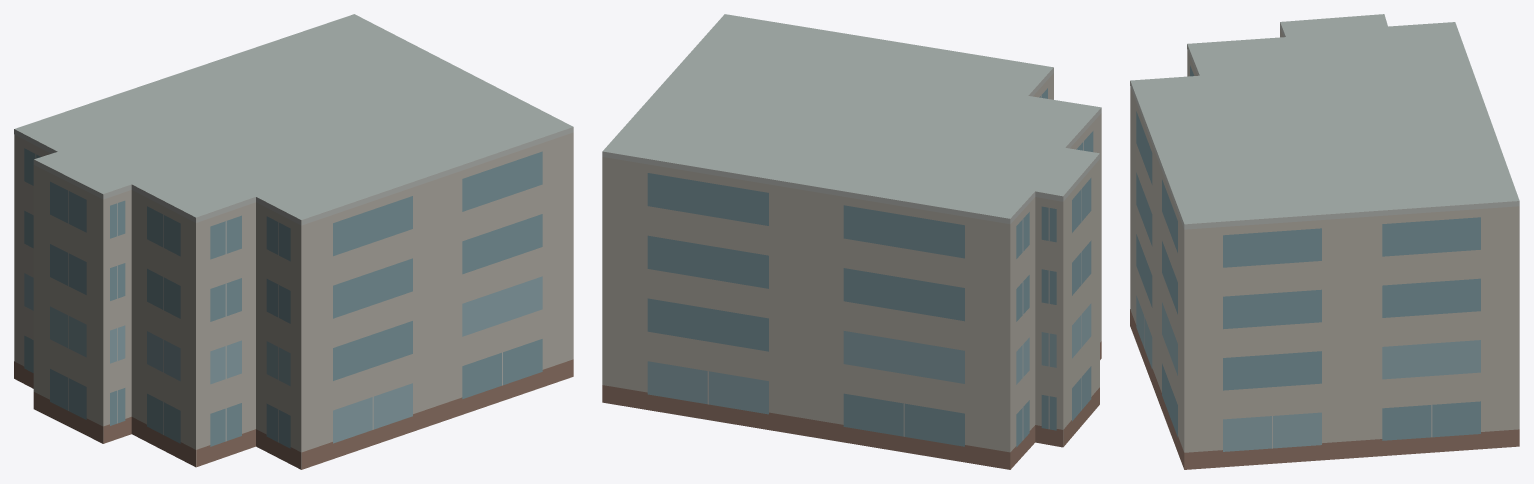
The model's file is survey-upis-32994209.glb.
3 renders of one model, left to right at view 1: azimuth 30°, elevation 25°; view 2: azimuth 150°, elevation 25°; view 3: azimuth 270°, elevation 25°, orthographic. The views are drawn at different scales.
Parts seen in each view (by area): view 1: survey-upis-32994209.tmp; view 2: survey-upis-32994209.tmp; view 3: survey-upis-32994209.tmp.
Part boxes in pixels (x1,y1,x2,y2): survey-upis-32994209.tmp: (14,14,573,469); survey-upis-32994209.tmp: (602,14,1101,469); survey-upis-32994209.tmp: (1130,14,1519,469).
Size of the model in its own units: 20.58 by 11.2 by 16.11.
